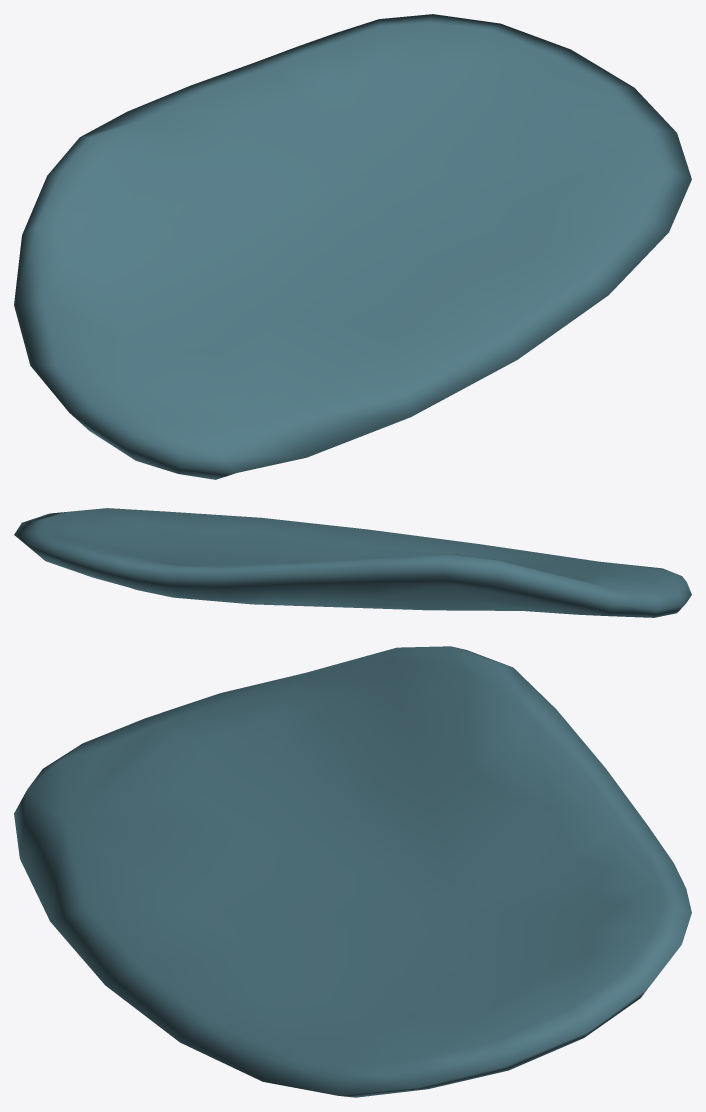
The model's file is Flexor_digitorum_longus_1st_distal_phalanx_left.glb.
3 renders of one model, top to bottom at view 1: azimuth 30°, elevation 25°; view 2: azimuth 150°, elevation 25°; view 3: azimuth 270°, elevation 25°, orthographic. The views are drawn at different scales.
Visible parts, largest first — view 1: Flexor_digitorum_longus_on_1st_distal_phalanx.l_Generated_Me; view 2: Flexor_digitorum_longus_on_1st_distal_phalanx.l_Generated_Me; view 3: Flexor_digitorum_longus_on_1st_distal_phalanx.l_Generated_Me.
Part boxes in pixels (box(x1,y1,x2,y2)): Flexor_digitorum_longus_on_1st_distal_phalanx.l_Generated_Me: box(14, 14, 691, 479); Flexor_digitorum_longus_on_1st_distal_phalanx.l_Generated_Me: box(14, 508, 691, 617); Flexor_digitorum_longus_on_1st_distal_phalanx.l_Generated_Me: box(14, 646, 691, 1097).
Bounding box in the file's own units: 0.00925 × 0.00218 × 0.00664.
